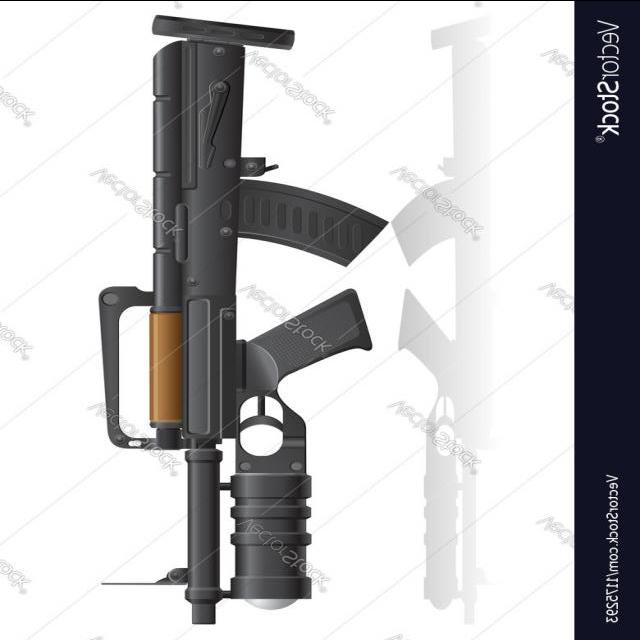rifle: (84, 16, 399, 622)
